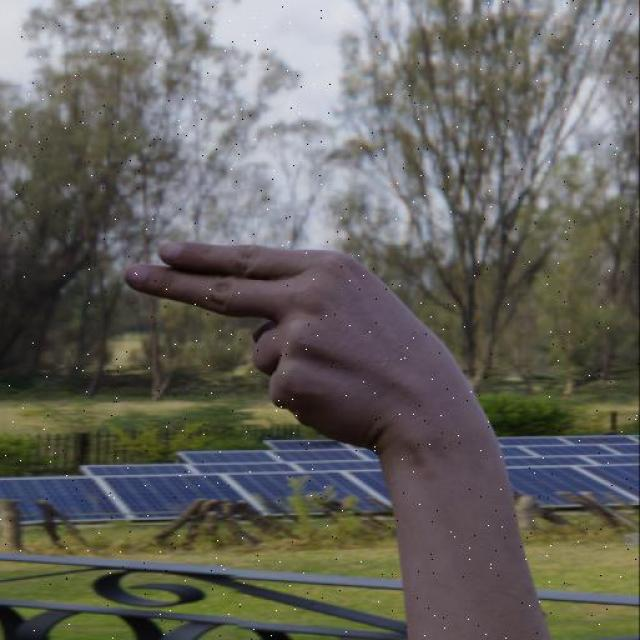H: (116, 240, 487, 455)
